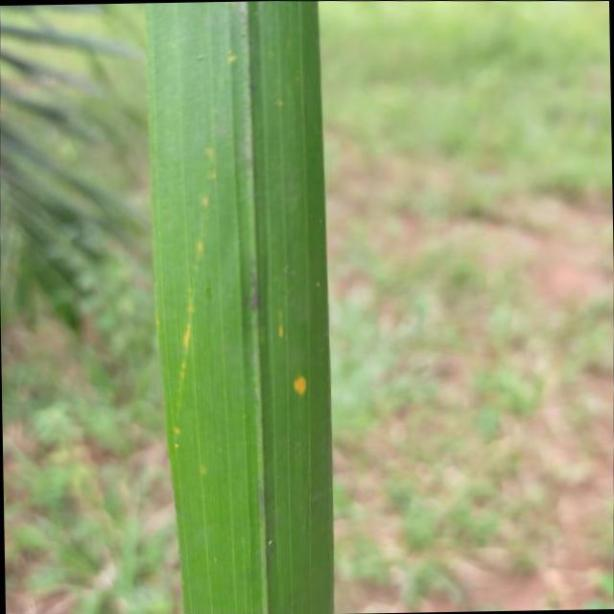Kalium: (142, 0, 338, 614)
